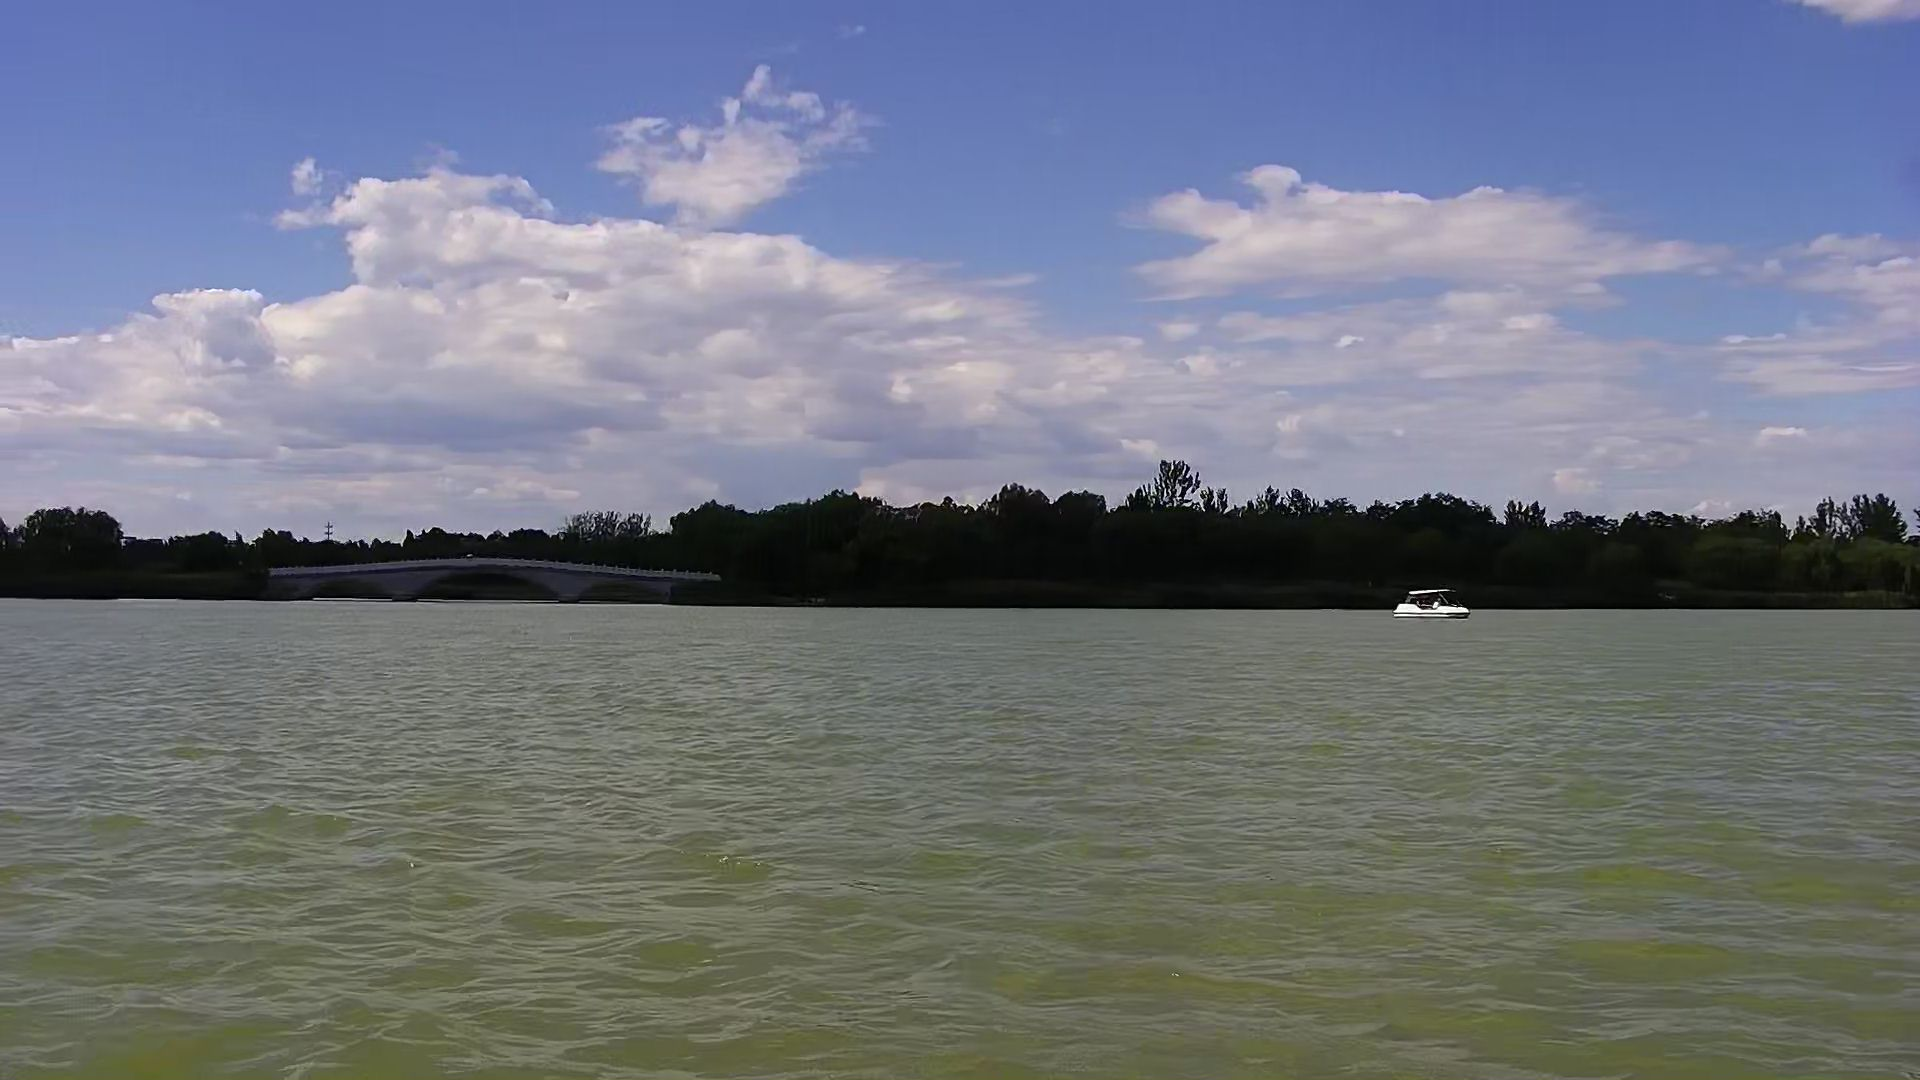boat: (1393, 585, 1480, 622)
bridge: (255, 549, 731, 615)
